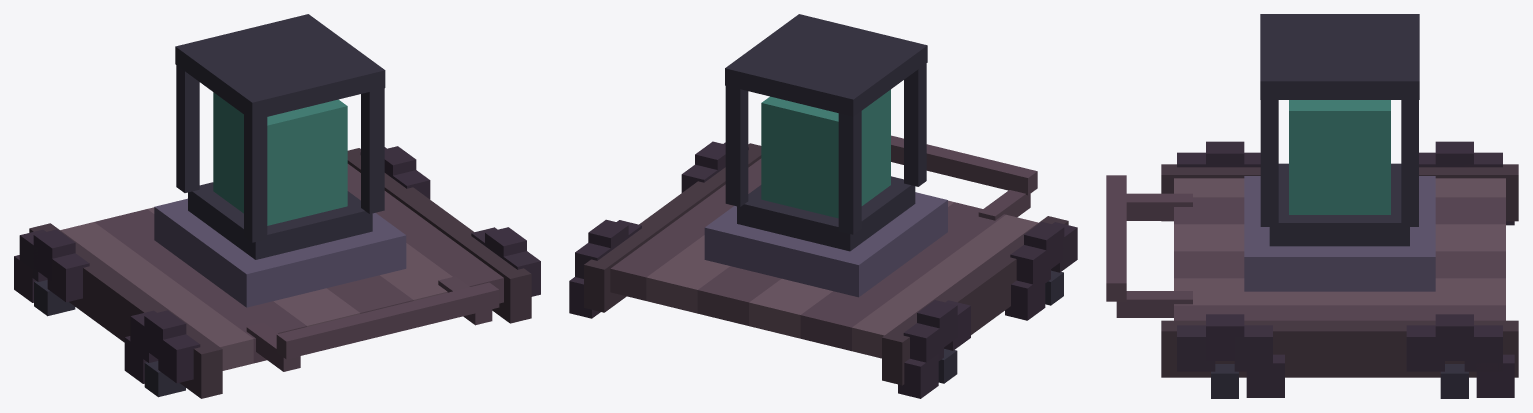
File: cart_polluted.glb
3 views of the same model, side by side, from view 1: azimuth 30°, elevation 25°; view 2: azimuth 150°, elevation 25°; view 3: azimuth 270°, elevation 25° (orthographic). The views are drawn at different scales.
Visible parts, largest first — view 1: cart_blocks; view 2: cart_blocks; view 3: cart_blocks.
Boxes of the visible parts, x1=… form: cart_blocks: x1=14, y1=14, x2=540, y2=398; cart_blocks: x1=569, y1=14, x2=1077, y2=398; cart_blocks: x1=1106, y1=14, x2=1518, y2=398.
Bounding box in the file's own units: 3.46 × 2.23 × 3.23.
